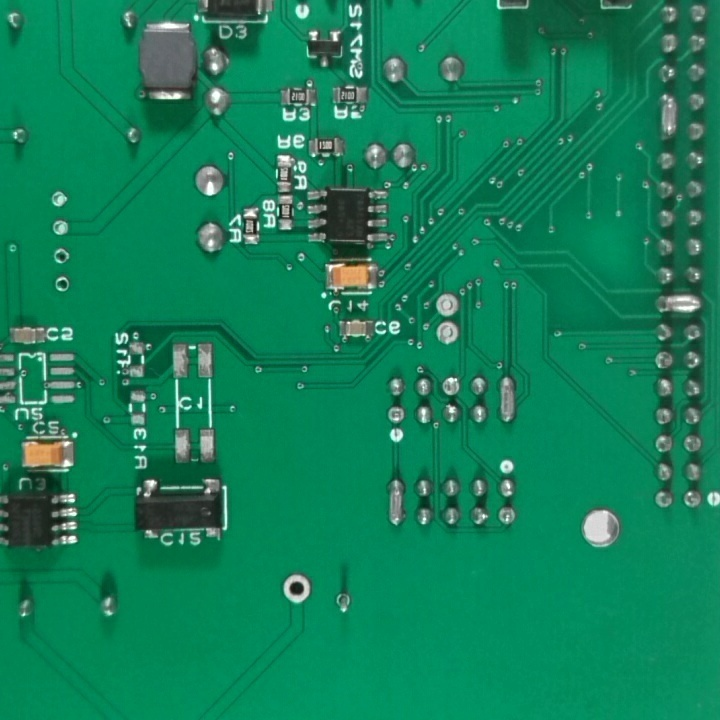F: (280, 572, 319, 608), (433, 290, 464, 320), (433, 320, 463, 348), (331, 589, 355, 618), (383, 403, 409, 429), (652, 350, 677, 377), (440, 374, 465, 398), (681, 487, 704, 513), (495, 504, 519, 528), (683, 433, 704, 458), (49, 246, 73, 266), (49, 187, 70, 209), (50, 219, 72, 240), (52, 273, 73, 292)
P: (656, 89, 681, 143), (384, 475, 408, 531), (653, 292, 706, 315), (496, 375, 519, 426)
